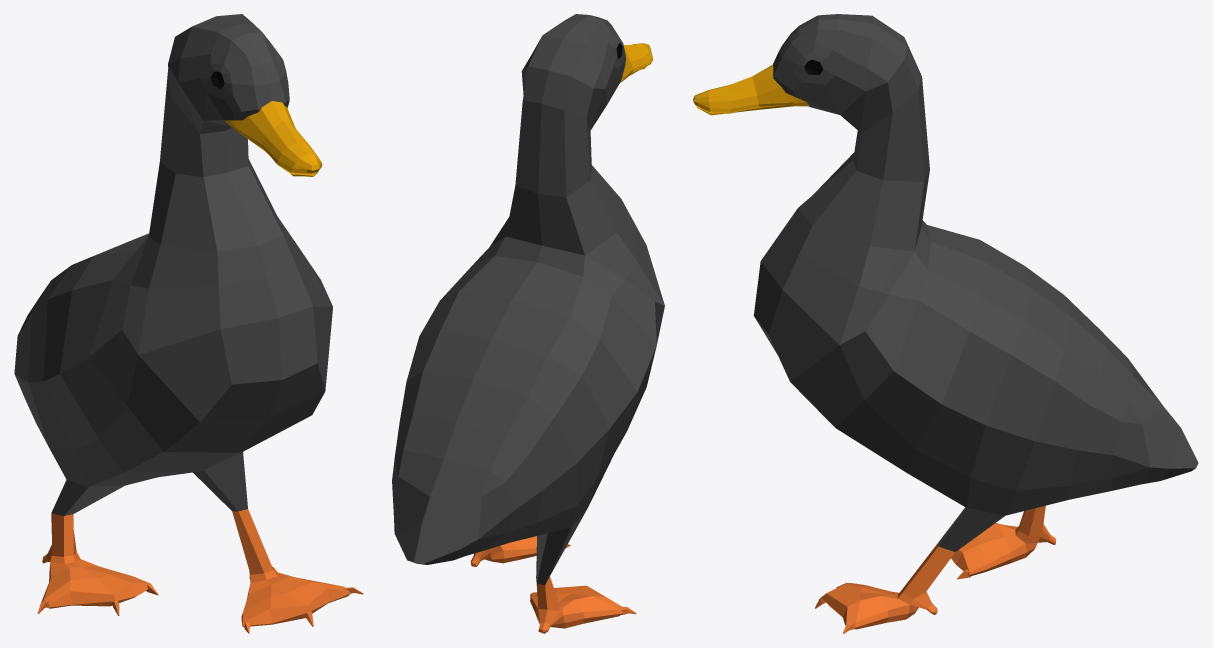
File: Duck_2.FBX
3 renders of one model, left to right at view 1: azimuth 30°, elevation 25°; view 2: azimuth 150°, elevation 25°; view 3: azimuth 270°, elevation 25°, orthographic. The views are drawn at different scales.
Visible parts, largest first — view 1: Duck_2; view 2: Duck_2; view 3: Duck_2.
Part boxes in pixels (x1,y1,x2,y2): Duck_2: (14, 14, 363, 633); Duck_2: (392, 14, 664, 633); Duck_2: (693, 14, 1198, 633).
Bounding box in the file's own units: 0.2632 × 0.5902 × 0.4768.
Materials: 1 (1 with a texture image).
